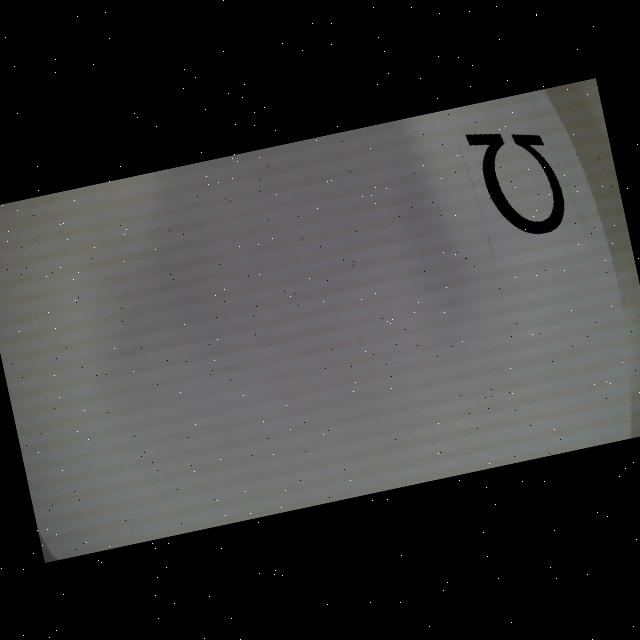OMEGA: (465, 117, 570, 246)
